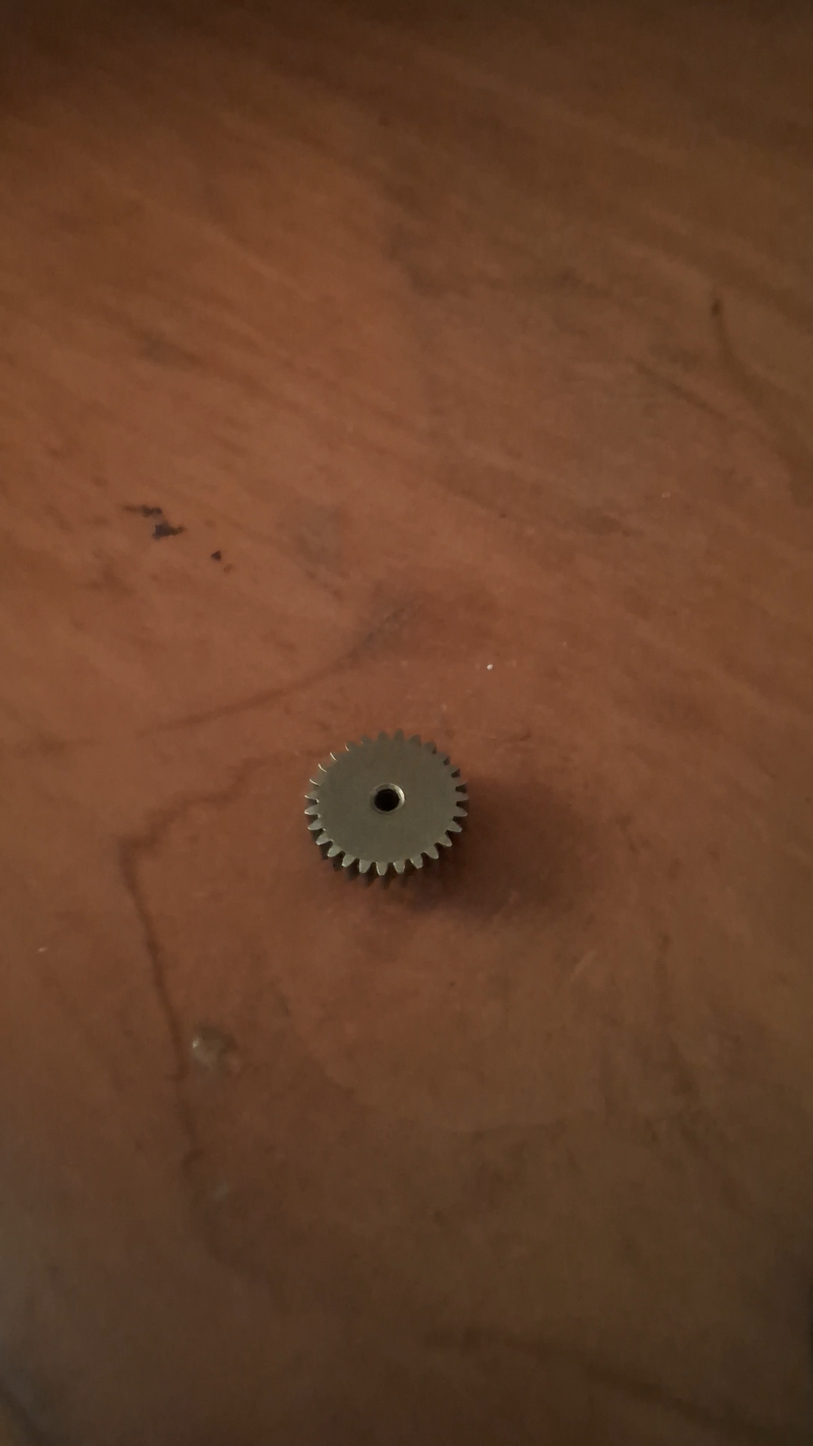spur gear: (305, 731, 467, 877)
